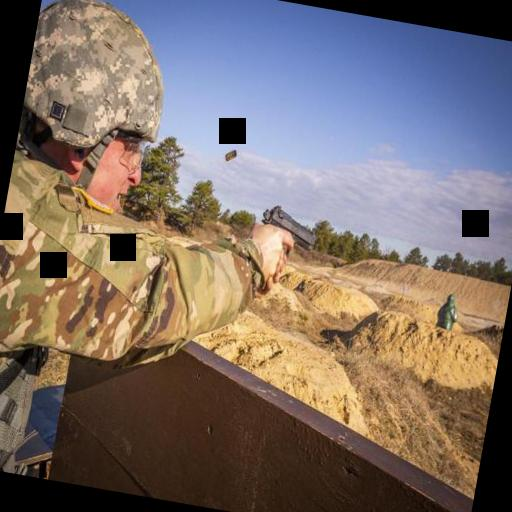Handgun: (250, 193, 324, 264)
